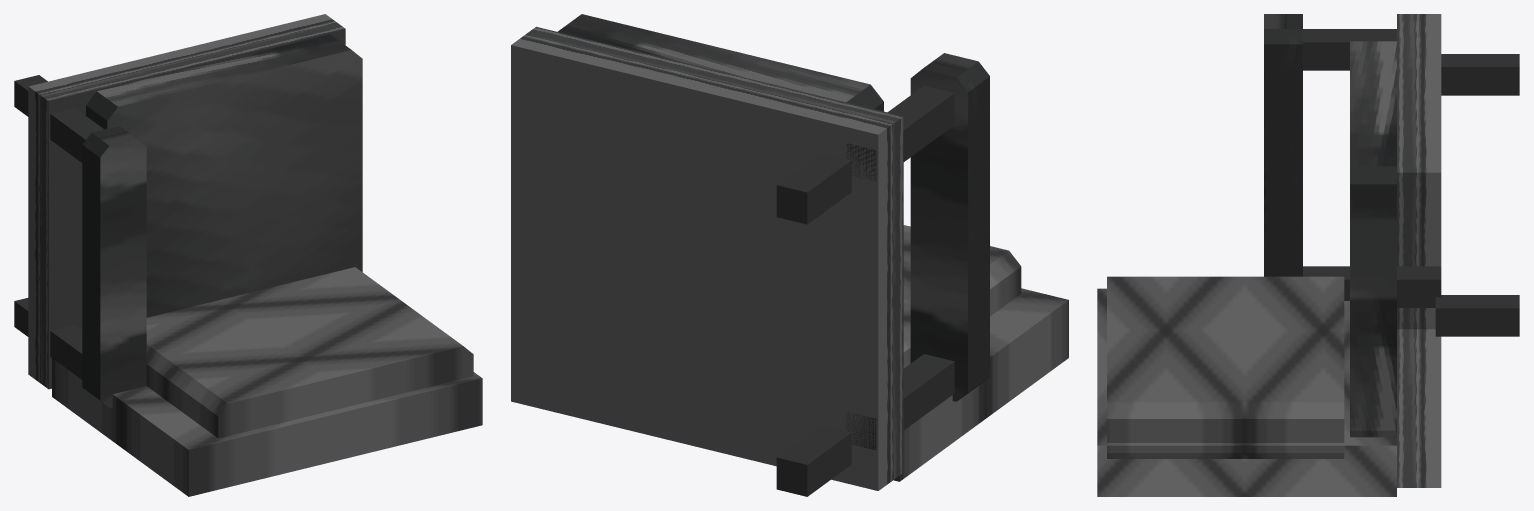
The model's file is pz_sofa_seating_indoor_03_victorian_c4_0_0.obj.
The picture shows the model from 3 angles, left to right: view 1: azimuth 30°, elevation 25°; view 2: azimuth 150°, elevation 25°; view 3: azimuth 270°, elevation 25°; orthographic projection. The views are drawn at different scales.
Bounding box in the file's own units: 0.99 × 0.915 × 1.08.
Materials: 1 (1 with a texture image).
